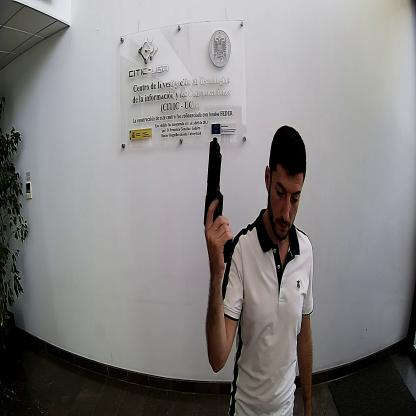pistol: (203, 136, 233, 263)
